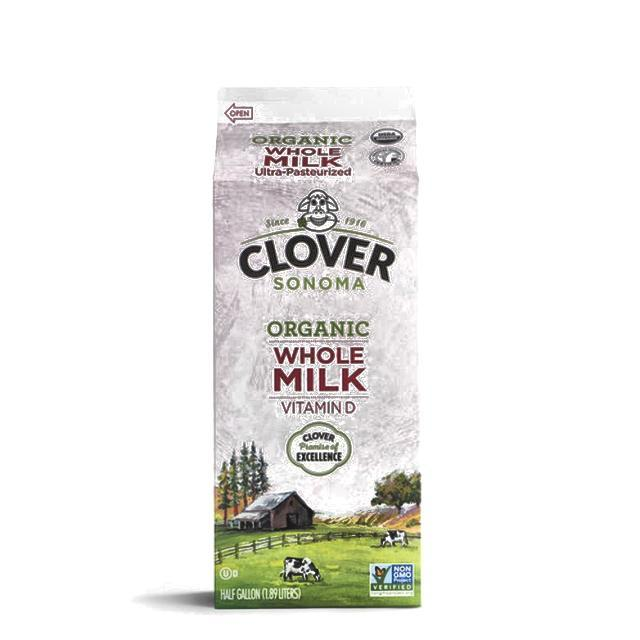cardboard: (211, 85, 422, 608)
